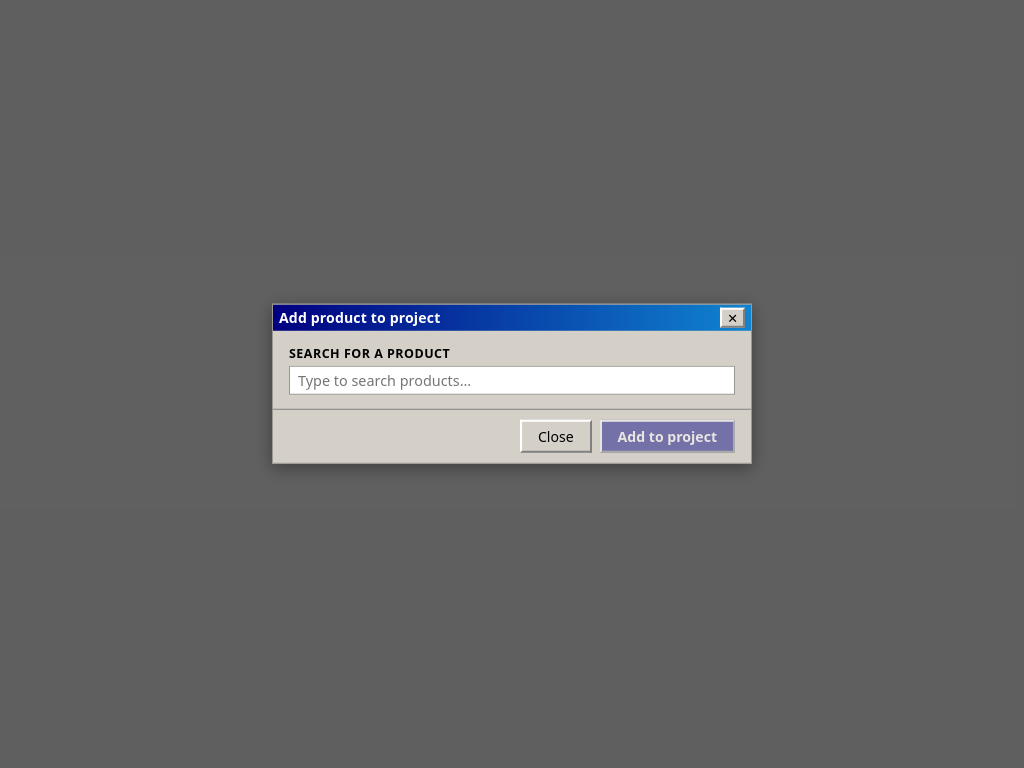
Scenario: AddToProjectModal — project-first mode › shows search results returned by the API
Type "Isover" into the field with placeholder "Type to search products…" at [512, 381], box [289, 366, 735, 395]
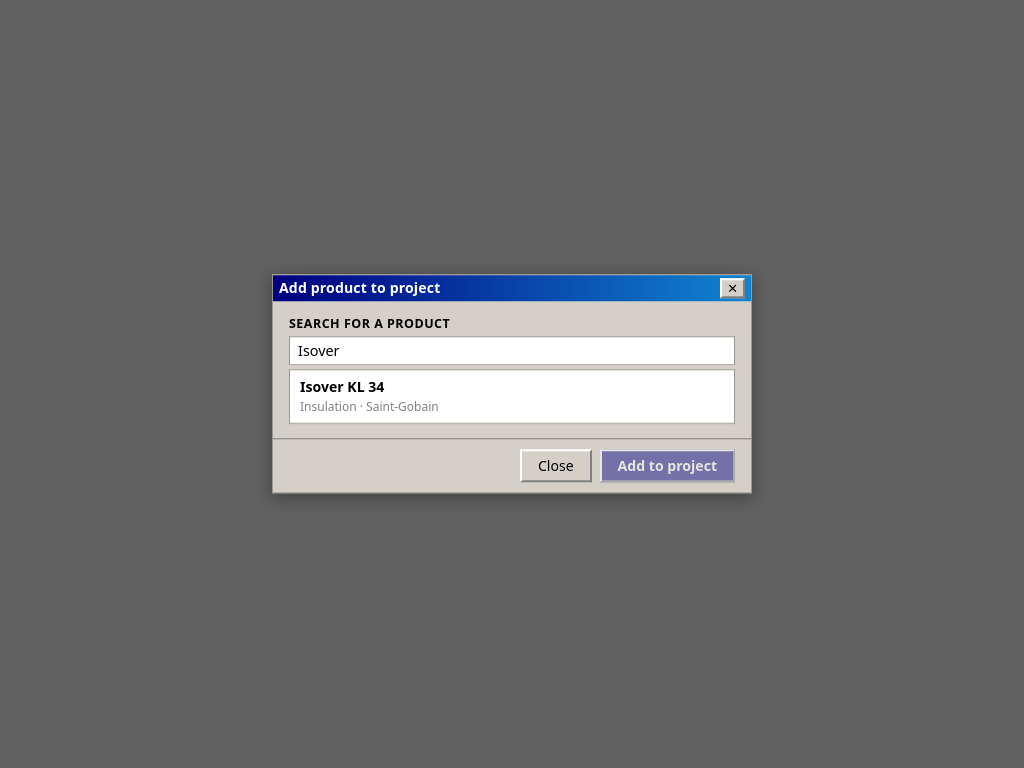
Result: the text "Isover KL 34" is shown at [300, 378, 384, 397]
